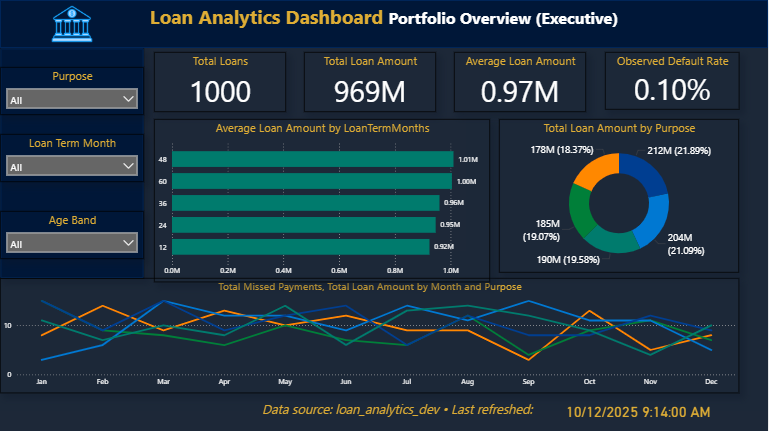

The dashboard page shown, as its layout file describes it:
{"tool":"powerbi","page":{"name":"Overview","canvas":[1280,720],"ordinal":0},"visuals":[{"type":"shape","box":[0,80,240,384],"z":0},{"type":"shape","box":[0,0,1280,80],"z":1000},{"type":"textbox","box":[0,0,1280,64],"z":2000},{"type":"textbox","box":[432,661.9,480,48],"z":3000},{"type":"card","fields":{"Values":["Measure.LastRefresh"]},"box":[912,661.9,304,48],"z":4000},{"type":"card","title":"Total Loans","fields":{"Values":["vw_CleanLoans.Total Loans"]},"box":[256,85.9,220,100],"z":5000},{"type":"card","title":"Total Loan Amount","fields":{"Values":["vw_CleanLoans.Total Loan Amount"]},"box":[506.7,85.9,220,100],"z":6000},{"type":"card","title":"Average Loan Amount","fields":{"Values":["vw_CleanLoans.Average Loan Amount"]},"box":[757.3,85.9,220,100],"z":7000},{"type":"card","title":"Observed Default Rate","fields":{"Values":["LoanPredictions.Observed Default Rate"]},"box":[1008,85.9,224,96],"z":8000},{"type":"lineChart","title":"Total Missed Payments, Total Loan Amount by Month and Purpose","fields":{"Y":["vw_CleanLoans.Total Missed Payments"],"Series":["vw_CleanLoans.Purpose"],"Category":["vw_CleanLoans.MonthLabel"]},"box":[0,464,1232,192],"z":9000},{"type":"donutChart","fields":{"Category":["vw_CleanLoans.Purpose"],"Y":["vw_CleanLoans.Total Loan Amount"]},"box":[832,197.9,400,256],"z":10000},{"type":"clusteredBarChart","fields":{"Y":["vw_CleanLoans.Average Loan Amount"],"Category":["vw_CleanLoans.LoanTermMonths"]},"box":[256,197.9,560,272],"z":11000},{"type":"slicer","title":"Purpose","fields":{"Values":["vw_CleanLoans.Purpose"]},"box":[0,112,240,80],"z":12000},{"type":"slicer","title":"Loan Term Month","fields":{"Values":["vw_CleanLoans.LoanTermMonths"]},"box":[0,224,240,80],"z":13000},{"type":"slicer","title":"Age Band","fields":{"Values":["vw_CleanLoans.AgeBand"]},"box":[0,352,240,80],"z":14000},{"type":"image","box":[0,0,240,80],"z":15000}]}

Visuals, with their boxes in screenshot pixels (x1, y1, x2, y2), scaled from the page's 1280x720 canvas onto the 769x431 screenshot:
shape: left=0, top=48, right=144, bottom=278
shape: left=0, top=0, right=768, bottom=48
textbox: left=0, top=0, right=768, bottom=38
textbox: left=260, top=396, right=548, bottom=425
card - Measure.LastRefresh: left=548, top=396, right=731, bottom=425
"Total Loans" card: left=154, top=51, right=286, bottom=111
"Total Loan Amount" card: left=304, top=51, right=437, bottom=111
"Average Loan Amount" card: left=455, top=51, right=587, bottom=111
"Observed Default Rate" card: left=606, top=51, right=740, bottom=109
"Total Missed Payments, Total Loan Amount by Month and Purpose" lineChart: left=0, top=278, right=740, bottom=393
donutChart - vw_CleanLoans.Purpose x vw_CleanLoans.Total Loan Amount: left=500, top=118, right=740, bottom=272
clusteredBarChart - vw_CleanLoans.Average Loan Amount x vw_CleanLoans.LoanTermMonths: left=154, top=118, right=490, bottom=281
"Purpose" slicer: left=0, top=67, right=144, bottom=115
"Loan Term Month" slicer: left=0, top=134, right=144, bottom=182
"Age Band" slicer: left=0, top=211, right=144, bottom=259
image: left=0, top=0, right=144, bottom=48
